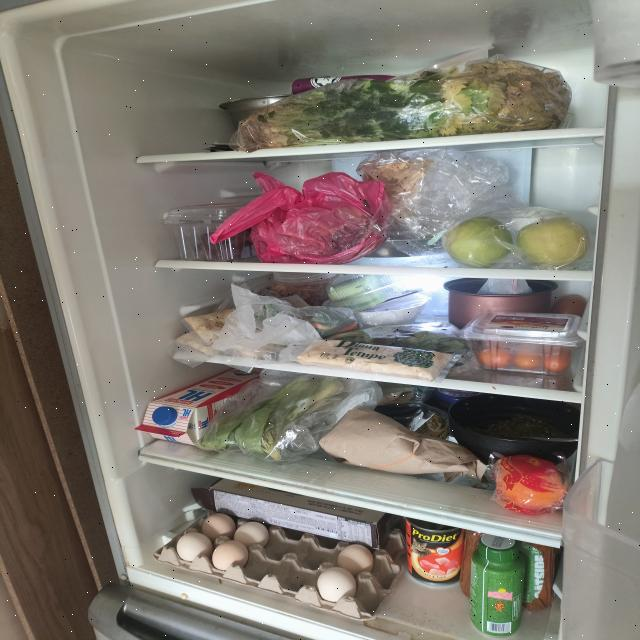apple: (443, 216, 513, 268), (517, 216, 589, 266)
egg: (152, 509, 406, 622)
leafy_greens: (237, 61, 572, 153)
orange: (493, 454, 568, 510)
pakchoy: (196, 374, 344, 461)
tempeh: (296, 338, 454, 382), (174, 308, 236, 358)
unknown_bag: (208, 171, 388, 264)
